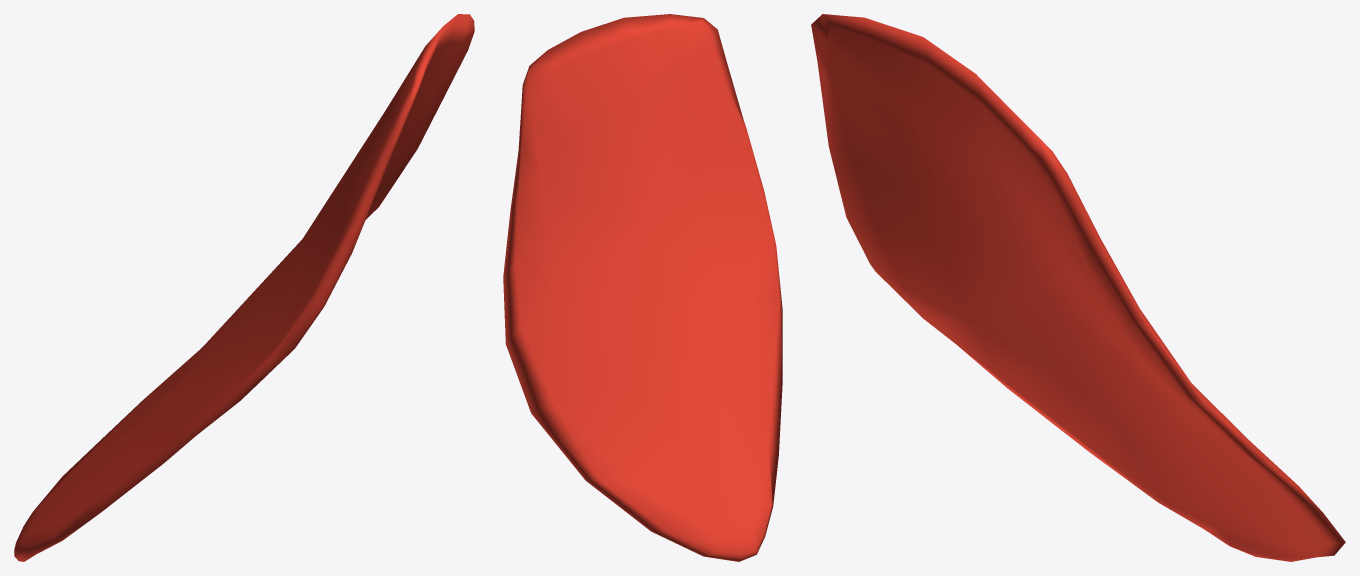
The model's file is Gastrocnemius_lateral_head_supracondylar_tubercle_right.glb.
3 views of the same model, side by side, from view 1: azimuth 30°, elevation 25°; view 2: azimuth 150°, elevation 25°; view 3: azimuth 270°, elevation 25° (orthographic). The views are drawn at different scales.
Parts seen in each view (by area): view 1: Lateral_head_of_gastrocnemius_on_lat._supracondylar_tubercle; view 2: Lateral_head_of_gastrocnemius_on_lat._supracondylar_tubercle; view 3: Lateral_head_of_gastrocnemius_on_lat._supracondylar_tubercle.
Part boxes in pixels (bbox=[...]): Lateral_head_of_gastrocnemius_on_lat._supracondylar_tubercle: bbox=[14, 14, 474, 561]; Lateral_head_of_gastrocnemius_on_lat._supracondylar_tubercle: bbox=[503, 14, 782, 561]; Lateral_head_of_gastrocnemius_on_lat._supracondylar_tubercle: bbox=[811, 14, 1345, 561].
Size of the model in its own units: 0.0131 by 0.0181 by 0.0127.
